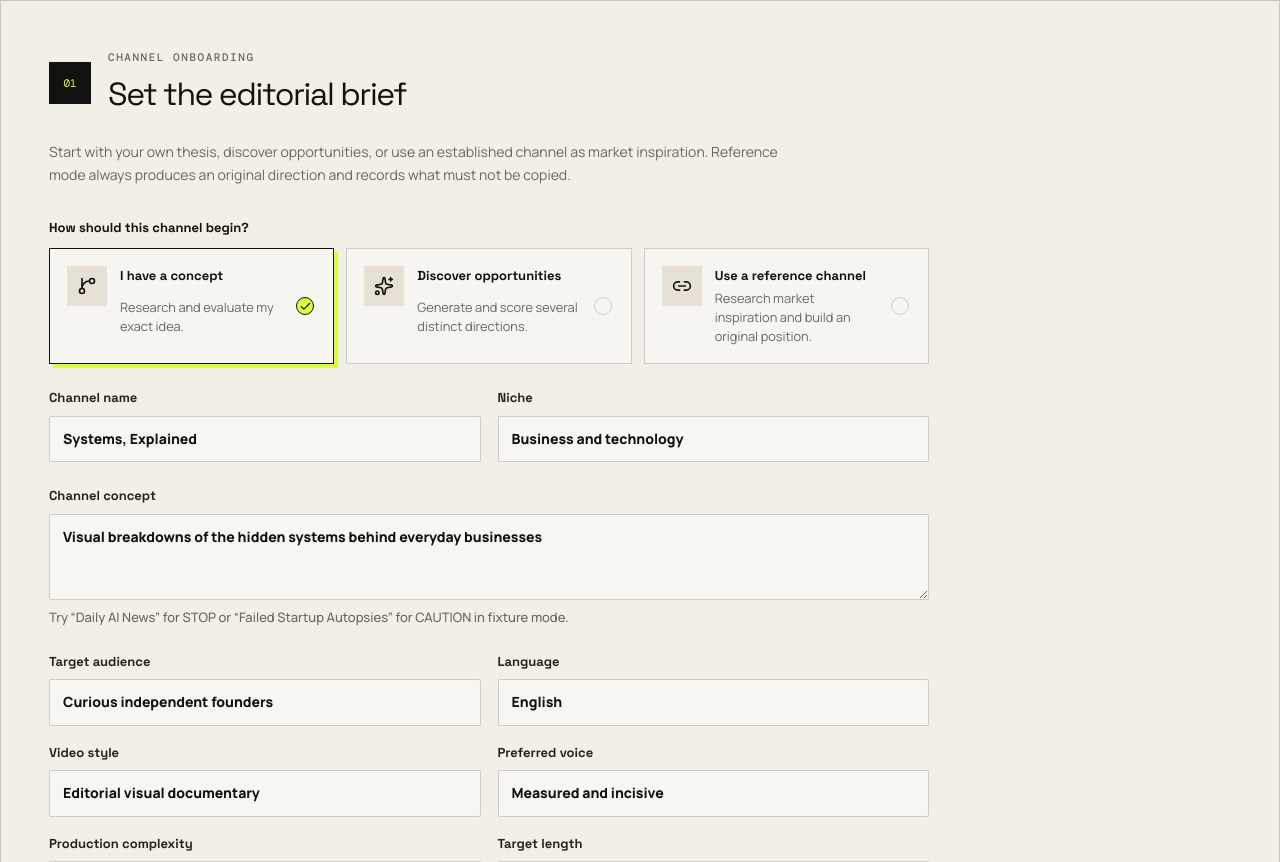
Test case: reference-channel onboarding › presents three distinct modes and reveals the reference-specific controls
The image size is (1280, 862).
Check: the button "I have a concept Research and evaluate my exact idea." is shown, box [49, 248, 334, 364]
Check: the button "Discover opportunities" is shown, box [346, 248, 632, 364]
Click the button "Use a reference channel" at (786, 306), box [644, 248, 929, 364]
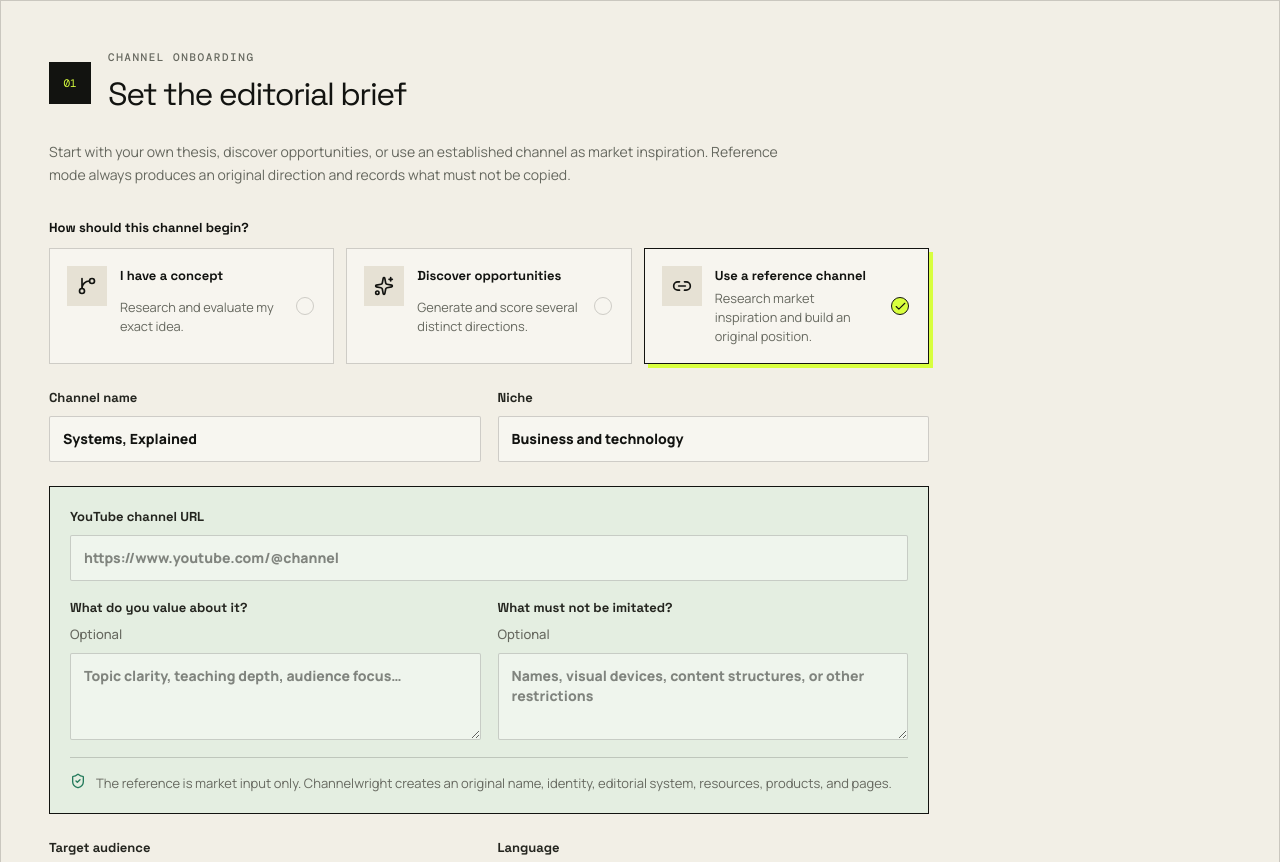
Check: the text box labelled "What do you value about it? Optional" is shown, box [70, 653, 480, 740]
Check: the text box labelled "What must not be imitated? Optional" is shown, box [498, 653, 908, 740]
Check: the text "market input only" is shown, box [96, 774, 892, 792]
